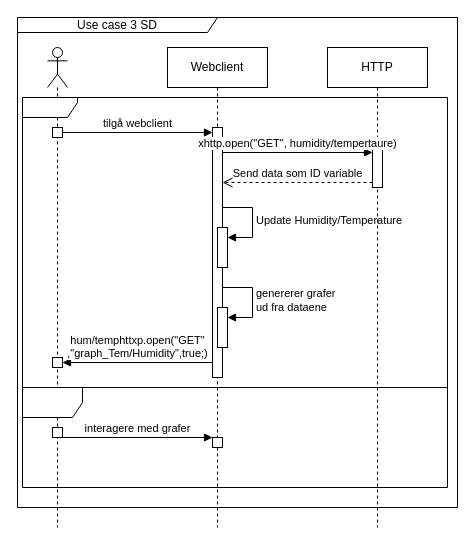
This 475x545 diagram has some shape labels left out. The centre of each missing label's shape, as x and y in pixels:
"loop" belongs at [235,242].
"opt" belongs at [235,437].
